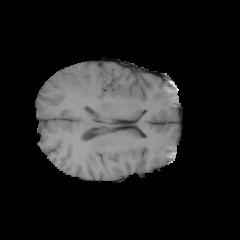glioma: (66, 70, 96, 109)
